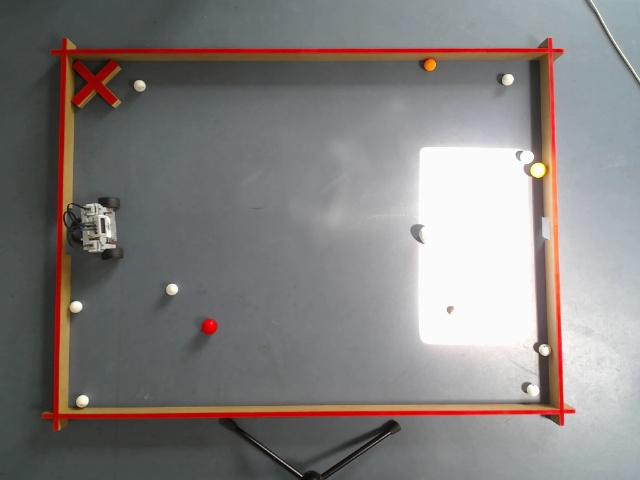big_goal: (55, 204, 72, 255)
cross: (70, 57, 120, 110)
egg: (418, 225, 448, 245)
orange: (422, 59, 436, 71)
robot: (80, 195, 122, 261)
small_goal: (541, 213, 558, 240)
wall: (40, 399, 575, 419), (52, 36, 78, 431), (537, 36, 562, 425), (50, 48, 562, 65)
white: (75, 393, 89, 408), (524, 381, 538, 395), (164, 281, 178, 294), (68, 300, 83, 312), (518, 150, 532, 161), (502, 72, 514, 84), (133, 80, 144, 92), (538, 344, 551, 354)
